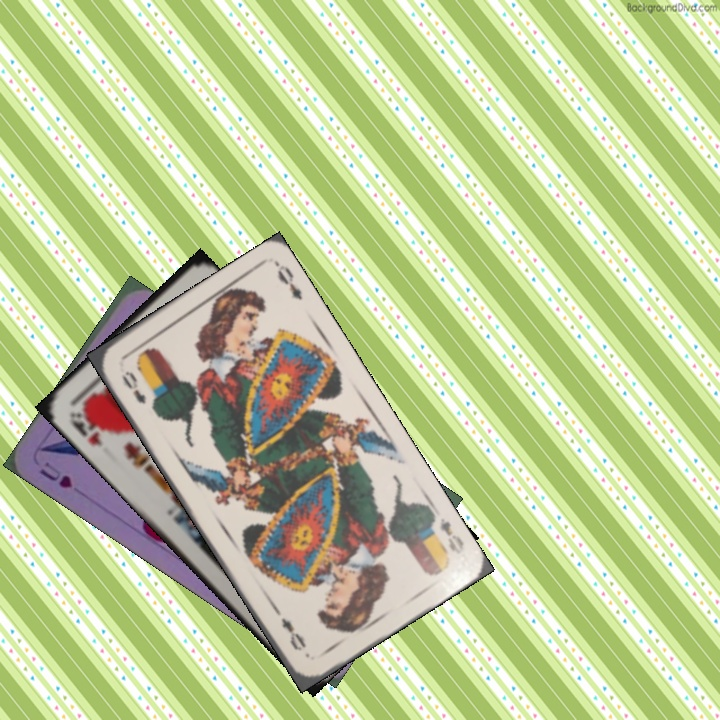EO: (435, 513, 467, 558), (117, 367, 149, 407)
HK: (65, 405, 106, 450)
HU: (36, 457, 76, 491)
